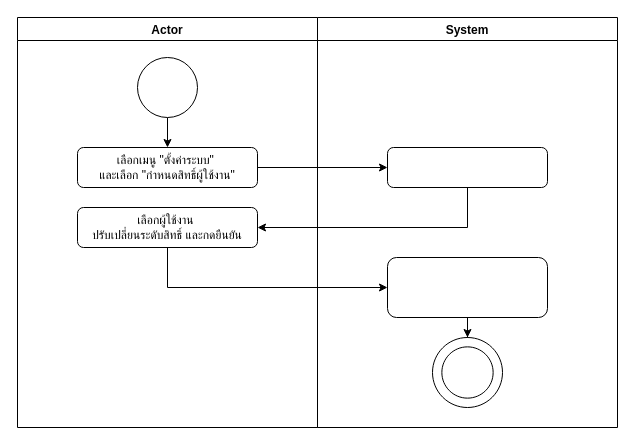
This 635x445 diagram has some shape labels left out. The shapes that lost their labels are listed below. From the top down, each one's centre as x and y in pixels, then its label:
the point at 467,167: แสดงรายชื่อผู้ใช้งานทั้งหมด พร้อมระดับสิทธิ์ปัจจุบัน
the point at 467,287: อัปเดตสิทธิ์ใหม่ลงฐานข้อมูล และขึ้น Modal "บันทึกสิทธิ์ผู้ใช้งานสำเร็จ"
